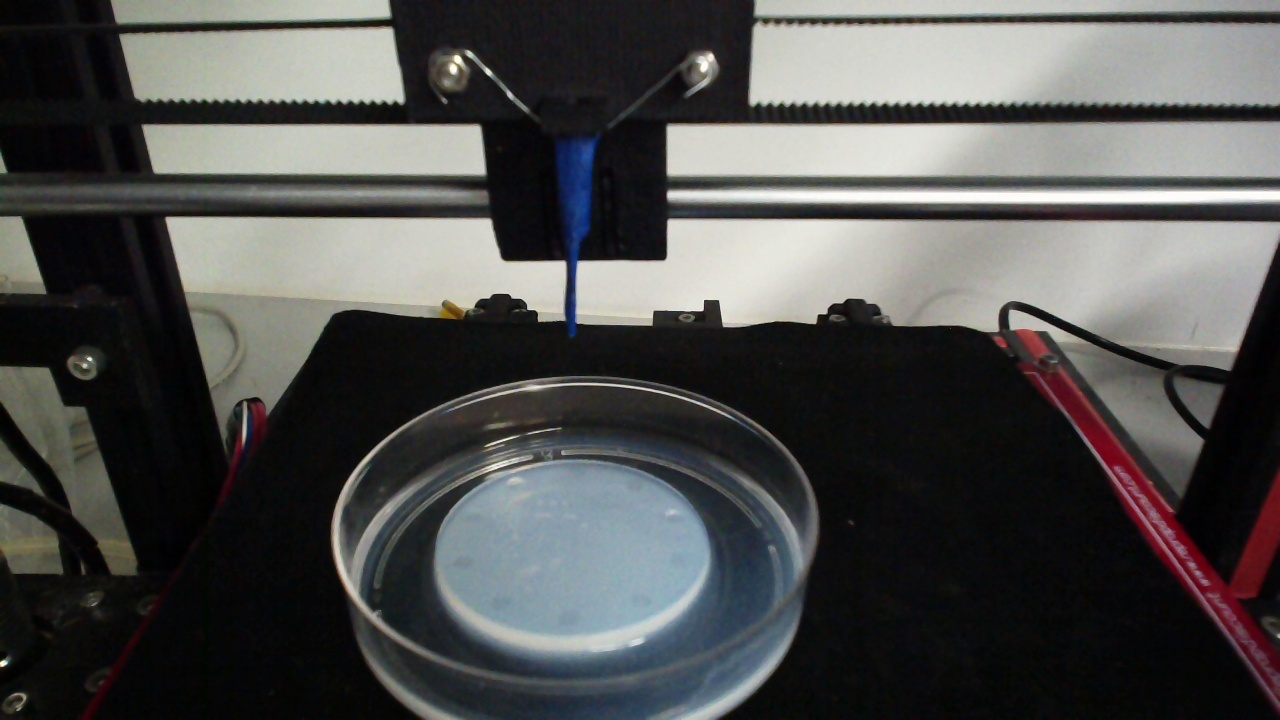groove: (558, 607, 582, 626), (487, 592, 513, 609), (629, 592, 654, 609), (666, 553, 691, 570), (622, 475, 645, 493), (452, 552, 477, 568), (662, 509, 686, 525), (567, 464, 588, 479), (505, 476, 526, 490), (460, 510, 481, 523)
needle: (554, 136, 594, 337)
